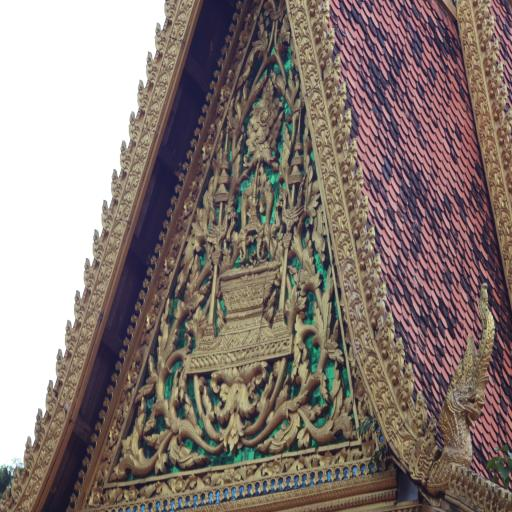hoa: (249, 92, 282, 144), (108, 421, 126, 447), (354, 376, 368, 406), (123, 366, 140, 390), (88, 485, 105, 508), (182, 192, 198, 216), (162, 252, 178, 276), (201, 137, 216, 160), (218, 78, 232, 101), (238, 22, 251, 46), (171, 475, 186, 495), (360, 440, 376, 458), (146, 308, 160, 328), (322, 448, 335, 468), (221, 466, 234, 486), (270, 459, 282, 478), (126, 487, 138, 502)
la: (121, 368, 211, 478), (146, 244, 212, 368), (270, 354, 357, 444), (285, 229, 347, 355), (211, 368, 269, 458), (209, 99, 230, 136), (58, 373, 80, 408), (224, 45, 246, 80), (94, 446, 113, 485), (354, 319, 373, 358), (300, 58, 322, 91), (123, 160, 145, 191), (150, 276, 171, 308), (132, 328, 150, 365), (232, 462, 269, 480), (24, 466, 46, 496), (187, 162, 209, 192), (384, 402, 402, 438), (186, 472, 220, 491), (279, 456, 322, 471), (134, 129, 154, 161), (79, 309, 99, 341), (48, 408, 68, 440), (140, 100, 162, 129), (106, 221, 128, 250), (170, 216, 189, 249), (114, 389, 134, 420), (318, 144, 337, 176), (334, 230, 353, 262), (70, 342, 89, 372), (306, 90, 327, 117), (99, 249, 118, 278), (342, 262, 360, 292), (118, 190, 135, 221), (330, 202, 348, 231), (91, 278, 107, 310), (138, 482, 170, 498), (365, 353, 382, 383), (171, 12, 189, 40), (155, 71, 172, 100), (36, 438, 54, 465), (292, 10, 310, 37), (325, 175, 341, 205), (314, 118, 331, 146), (372, 383, 392, 406), (163, 41, 178, 71), (349, 291, 364, 320), (297, 38, 315, 62), (338, 446, 360, 464), (105, 485, 124, 504), (15, 497, 36, 512)
lua: (356, 223, 380, 265), (344, 166, 366, 209), (322, 55, 345, 93), (376, 311, 396, 352), (335, 109, 356, 147), (350, 195, 371, 233), (368, 280, 389, 318), (388, 336, 409, 372), (342, 136, 359, 179), (331, 80, 350, 118), (399, 365, 417, 403), (413, 386, 426, 436), (364, 257, 381, 295), (313, 2, 331, 37), (317, 29, 336, 61), (109, 167, 123, 202), (91, 227, 105, 260), (73, 286, 85, 324), (45, 379, 58, 414), (98, 199, 112, 231), (23, 433, 36, 467), (145, 50, 158, 82), (155, 21, 167, 55), (136, 79, 148, 113), (55, 350, 68, 380), (36, 405, 46, 443), (10, 464, 20, 500), (127, 112, 138, 144), (121, 138, 131, 170), (84, 257, 94, 289), (66, 318, 75, 352), (163, 0, 175, 22)
ran: (436, 281, 498, 472), (410, 422, 438, 481)
